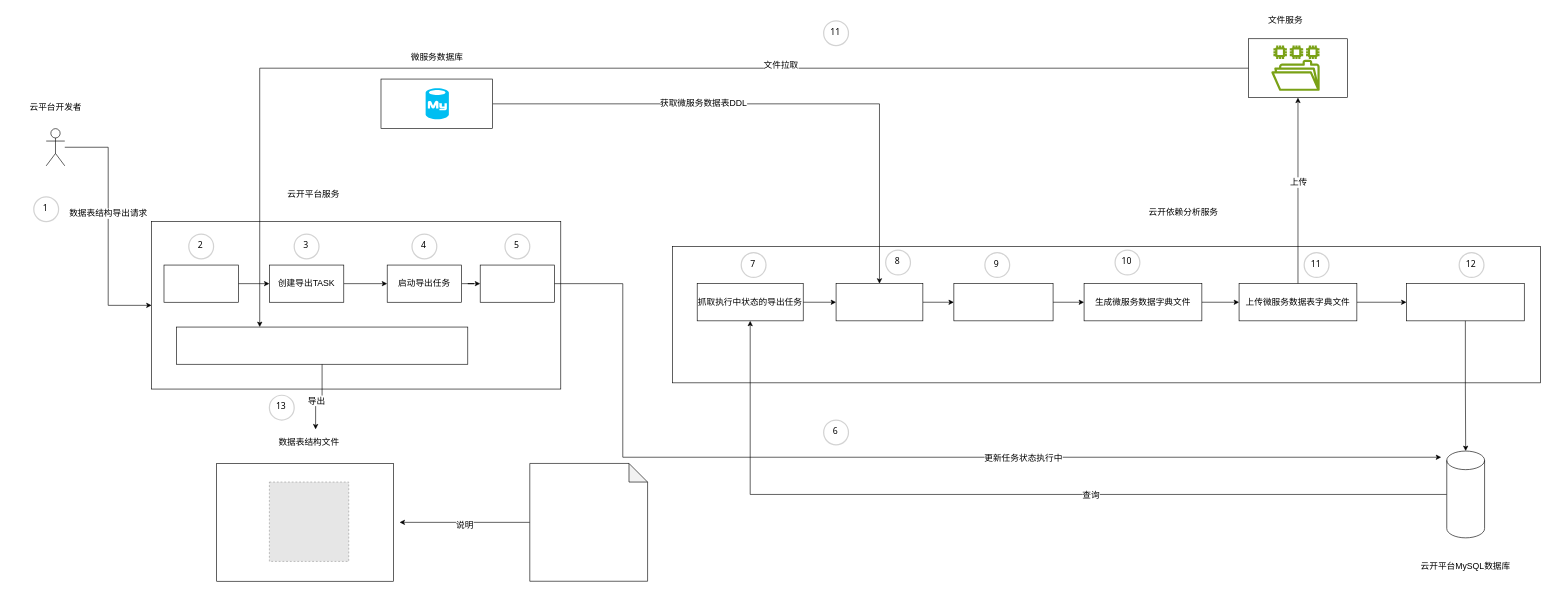
The diagram is 1551 pixels wide and 592 high, and some of its shapes have lost their labels. Grey dashed boxes stand in for pictures. The centre of each missing label's shape, as x and y in pixels:
"Actor" belongs at [55,147].
"下载微服务数据表结构" belongs at [322,345].
"修改导出任务状态为执行成功" belongs at [1465,302].
"修改导出任务状态执行中" belongs at [517,283].
"应用 模块 数据逻辑库声明 数据表字段声明 数据表索引声明" belongs at [588,522].
"微服务DB结构解析器" belongs at [879,302].
"数据表结构导出API" belongs at [200,283].
"表结构数据字典处理器" belongs at [1003,302].
